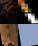eye: (0, 0, 18, 24)
